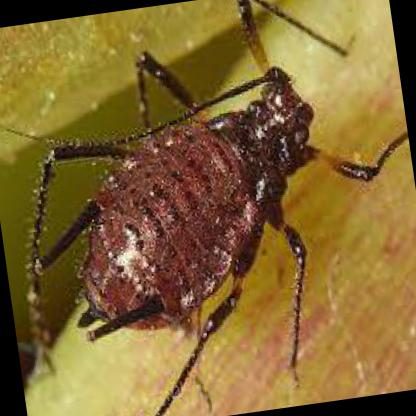uroleucon compositae: (37, 55, 376, 343)
